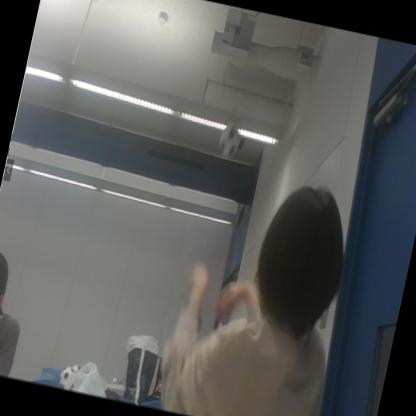ball: (218, 122, 242, 158)
